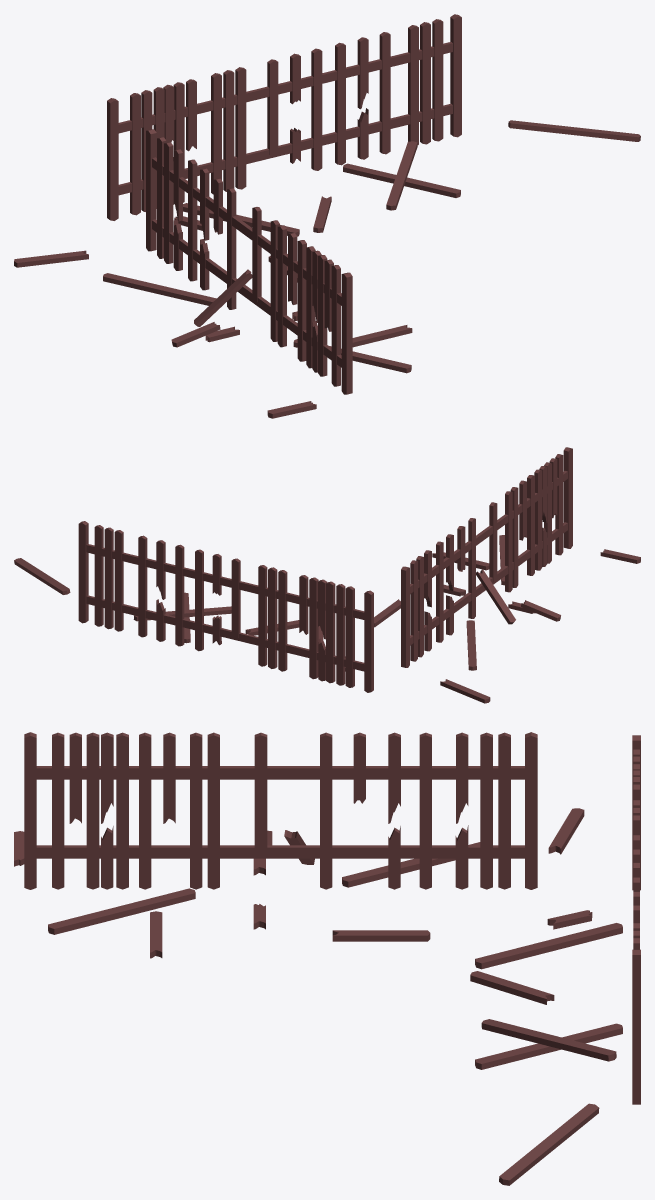
The model's file is strick wall.fbx.
3 renders of one model, top to bottom at view 1: azimuth 30°, elevation 25°; view 2: azimuth 150°, elevation 25°; view 3: azimuth 270°, elevation 25°, orthographic. The views are drawn at different scales.
Visible parts, largest first — view 1: polySurface153, polySurface156, polySurface114; view 2: polySurface153, polySurface156, polySurface114; view 3: polySurface156, polySurface153.
Part boxes in pixels (x1,y1,x2,y2): polySurface153: [118, 14, 640, 236]; polySurface156: [14, 129, 412, 418]; polySurface114: [107, 98, 118, 220]; polySurface153: [14, 521, 364, 687]; polySurface156: [374, 447, 640, 703]; polySurface114: [364, 590, 373, 692]; polySurface156: [14, 732, 584, 958]; polySurface153: [470, 749, 640, 1185].
Bounding box in the file's own units: 3785 × 742 × 2687.
